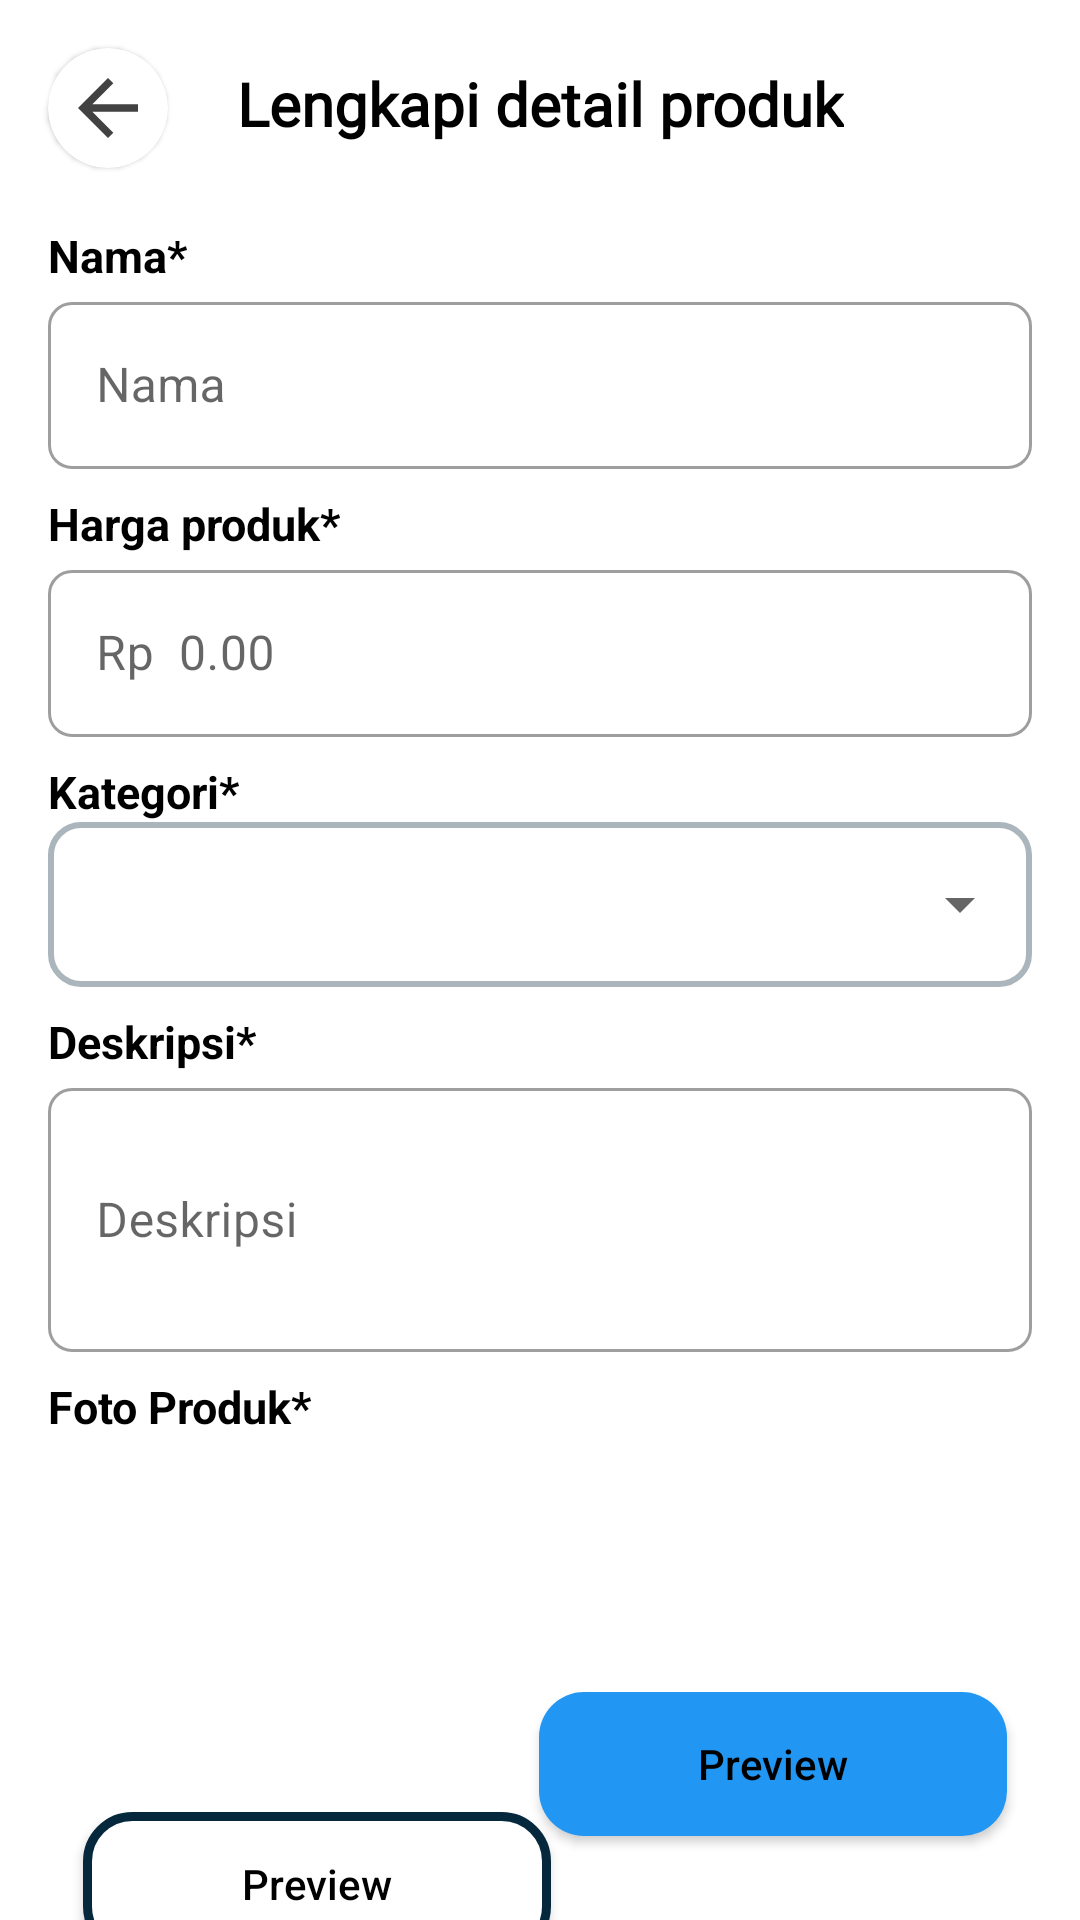

Point at icon controls on the screen. Image size 1080 × 1920, points as (x,y).
back smaller: (93,108)
